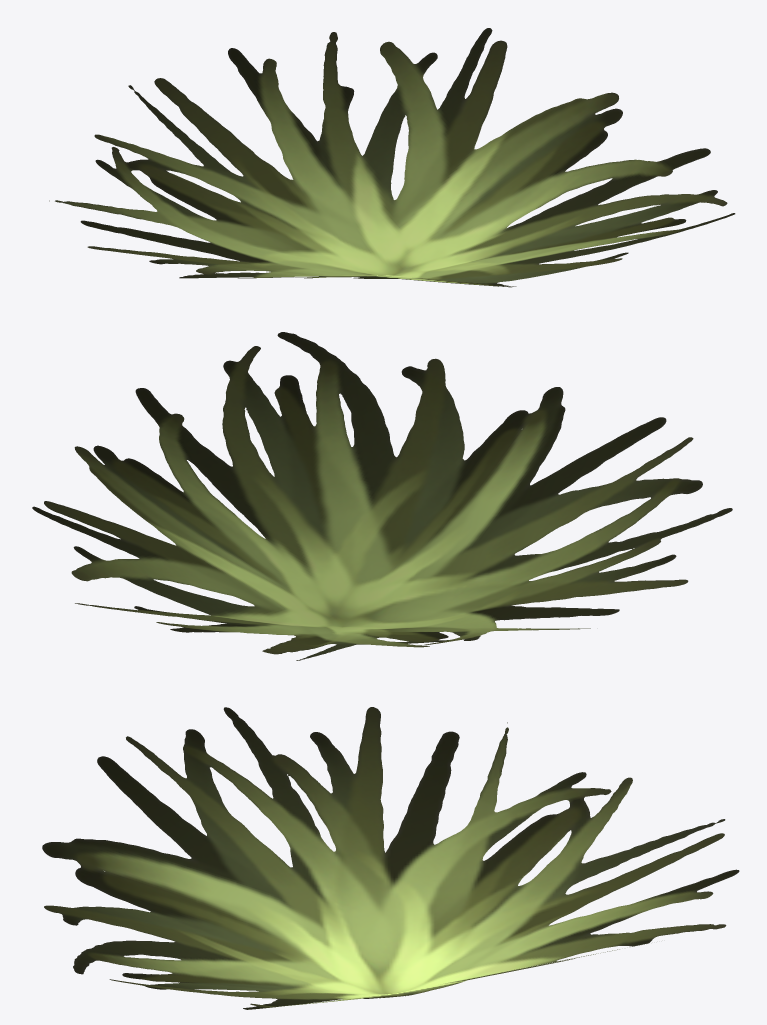
The model's file is HP3_grass001 1.fbx.
3 views of the same model, one above another, from view 1: azimuth 30°, elevation 25°; view 2: azimuth 150°, elevation 25°; view 3: azimuth 270°, elevation 25° (orthographic). The views are drawn at different scales.
Parts seen in each view (by area): view 1: HP3_grass001; view 2: HP3_grass001; view 3: HP3_grass001.
Boxes of the visible parts, bbox=[...] form: HP3_grass001: bbox=[49, 28, 735, 287]; HP3_grass001: bbox=[32, 332, 732, 660]; HP3_grass001: bbox=[42, 707, 739, 1009].
Size of the model in its own units: 7.56 by 1.75 by 7.48.
